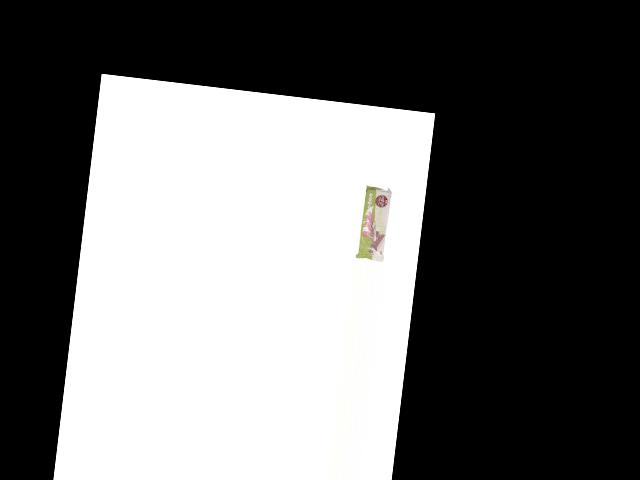chocolate: (356, 182, 395, 262)
